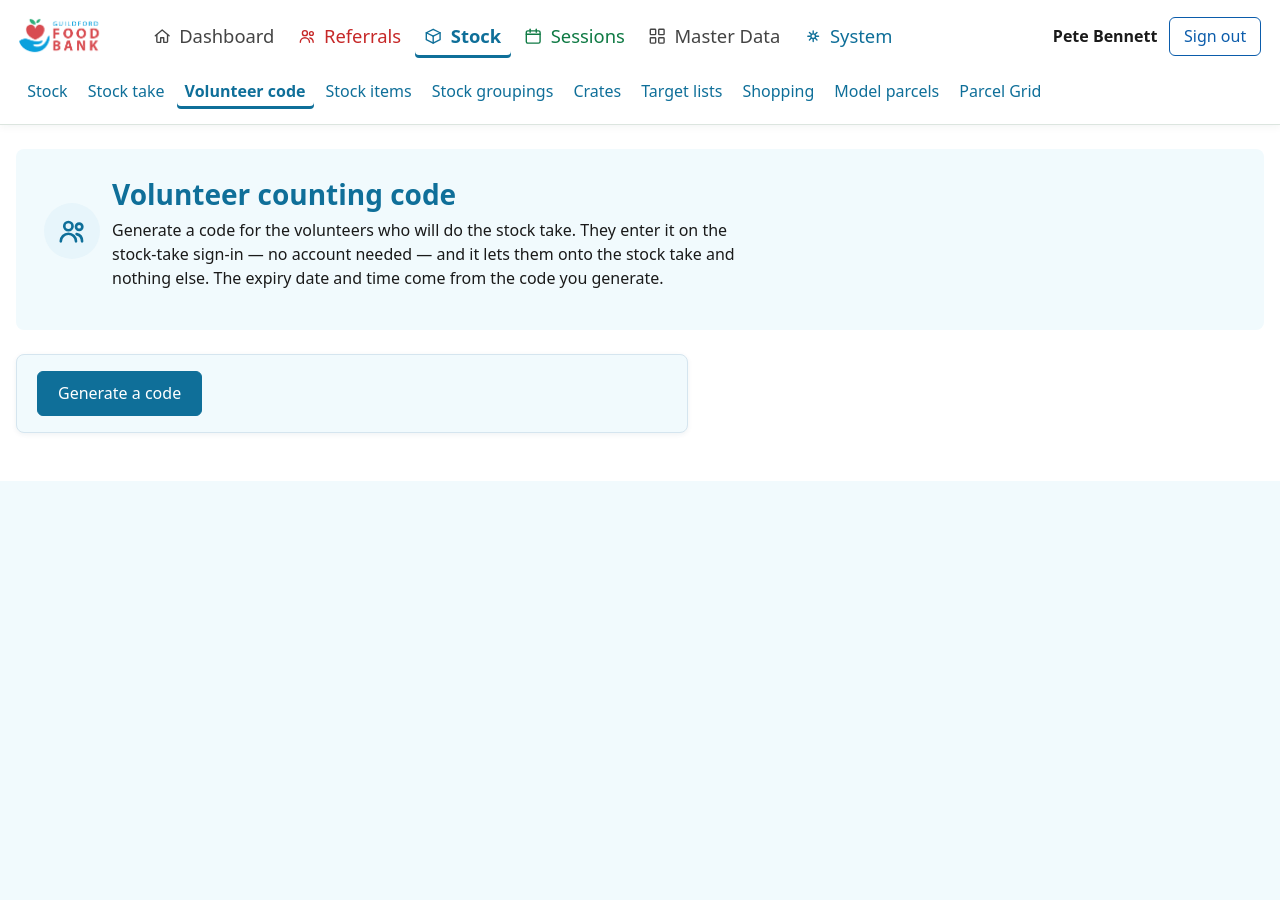
Test: the volunteer code screen › does not mint a second code while a generate is still in flight
Click the button "Generate a code": (120, 393) [37,371,202,416]
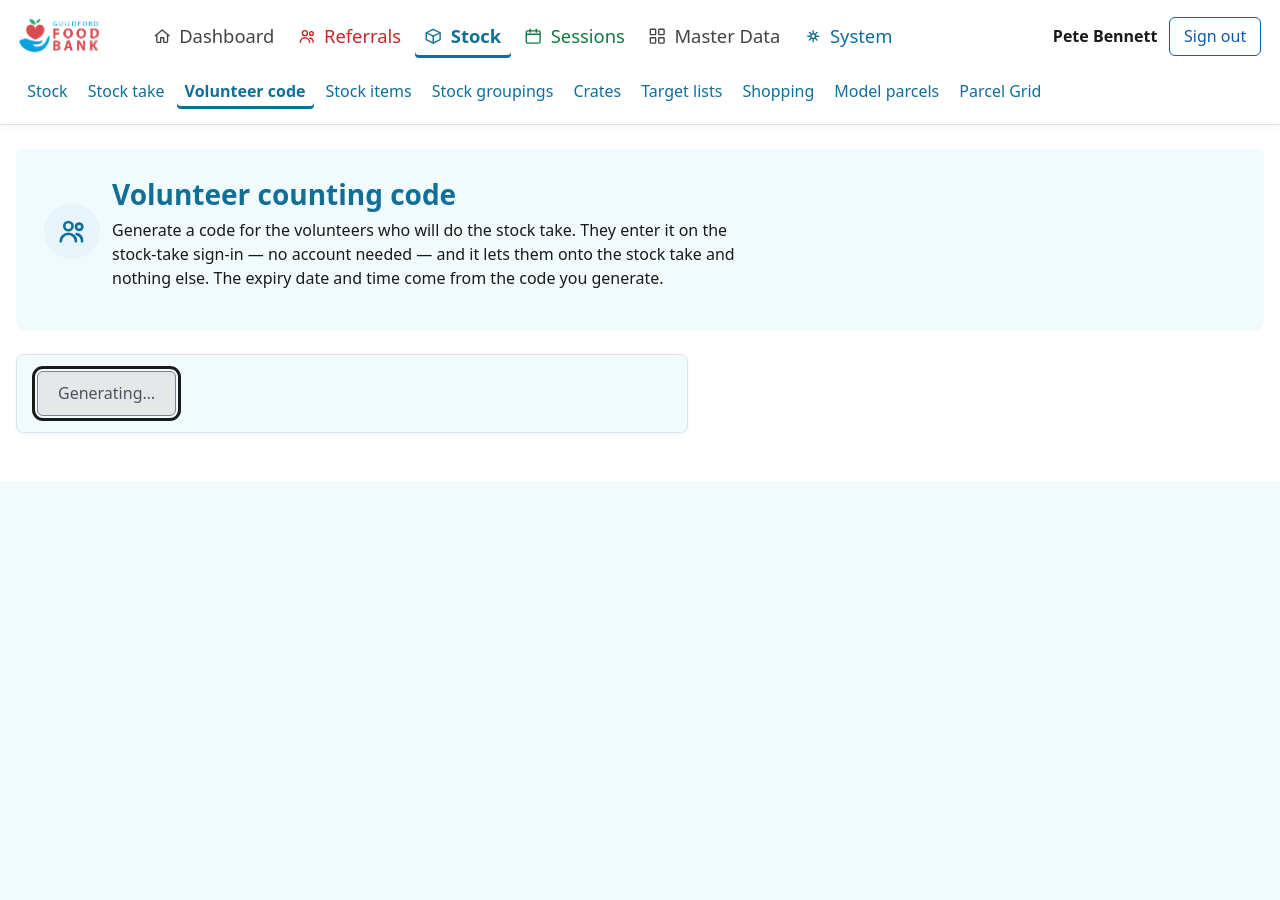
Click the button named "Generate a code": (107, 393) [37,371,176,416]
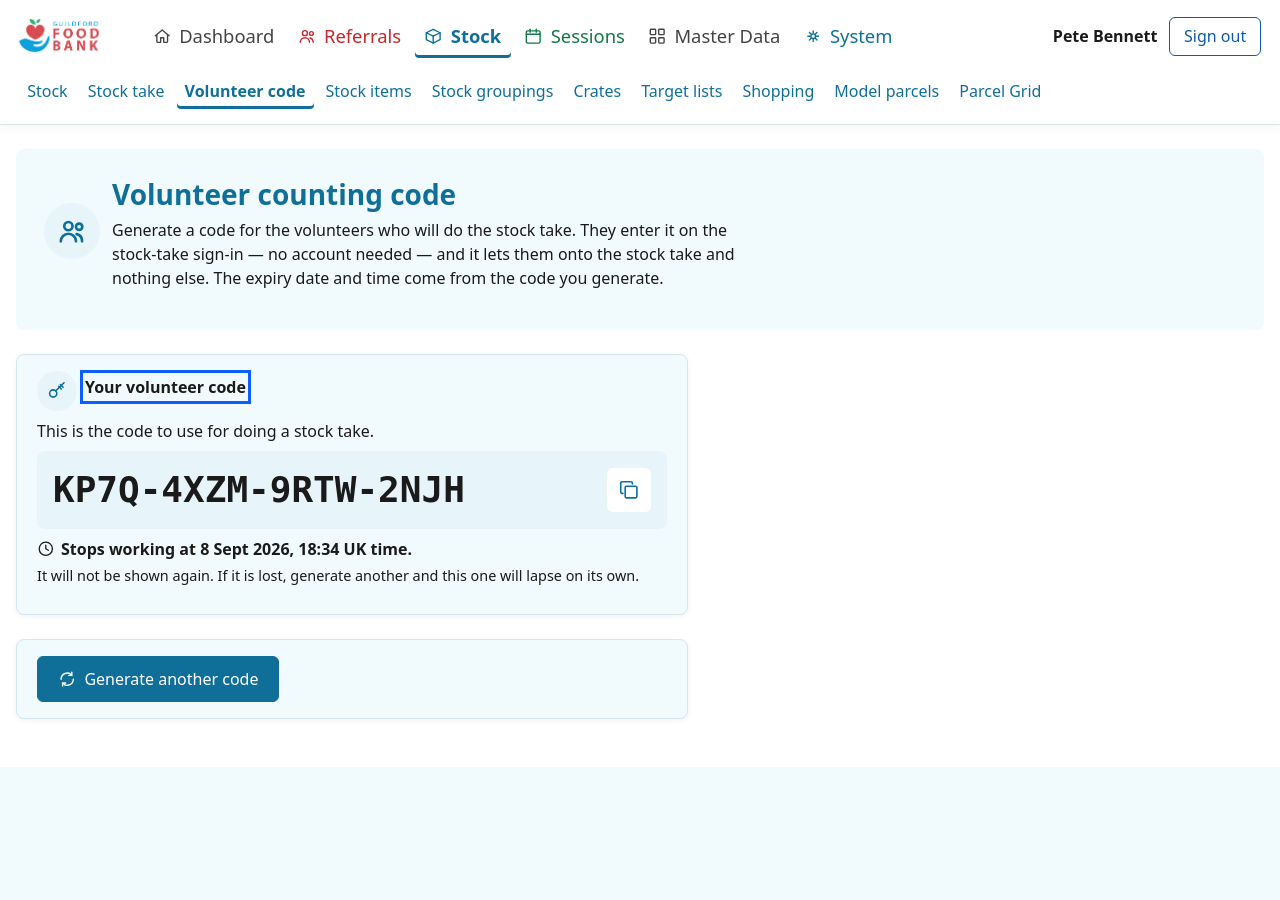
Result: the text "KP7Q-4XZM-9RTW-2NJH" is shown at [53,463,465,517]
